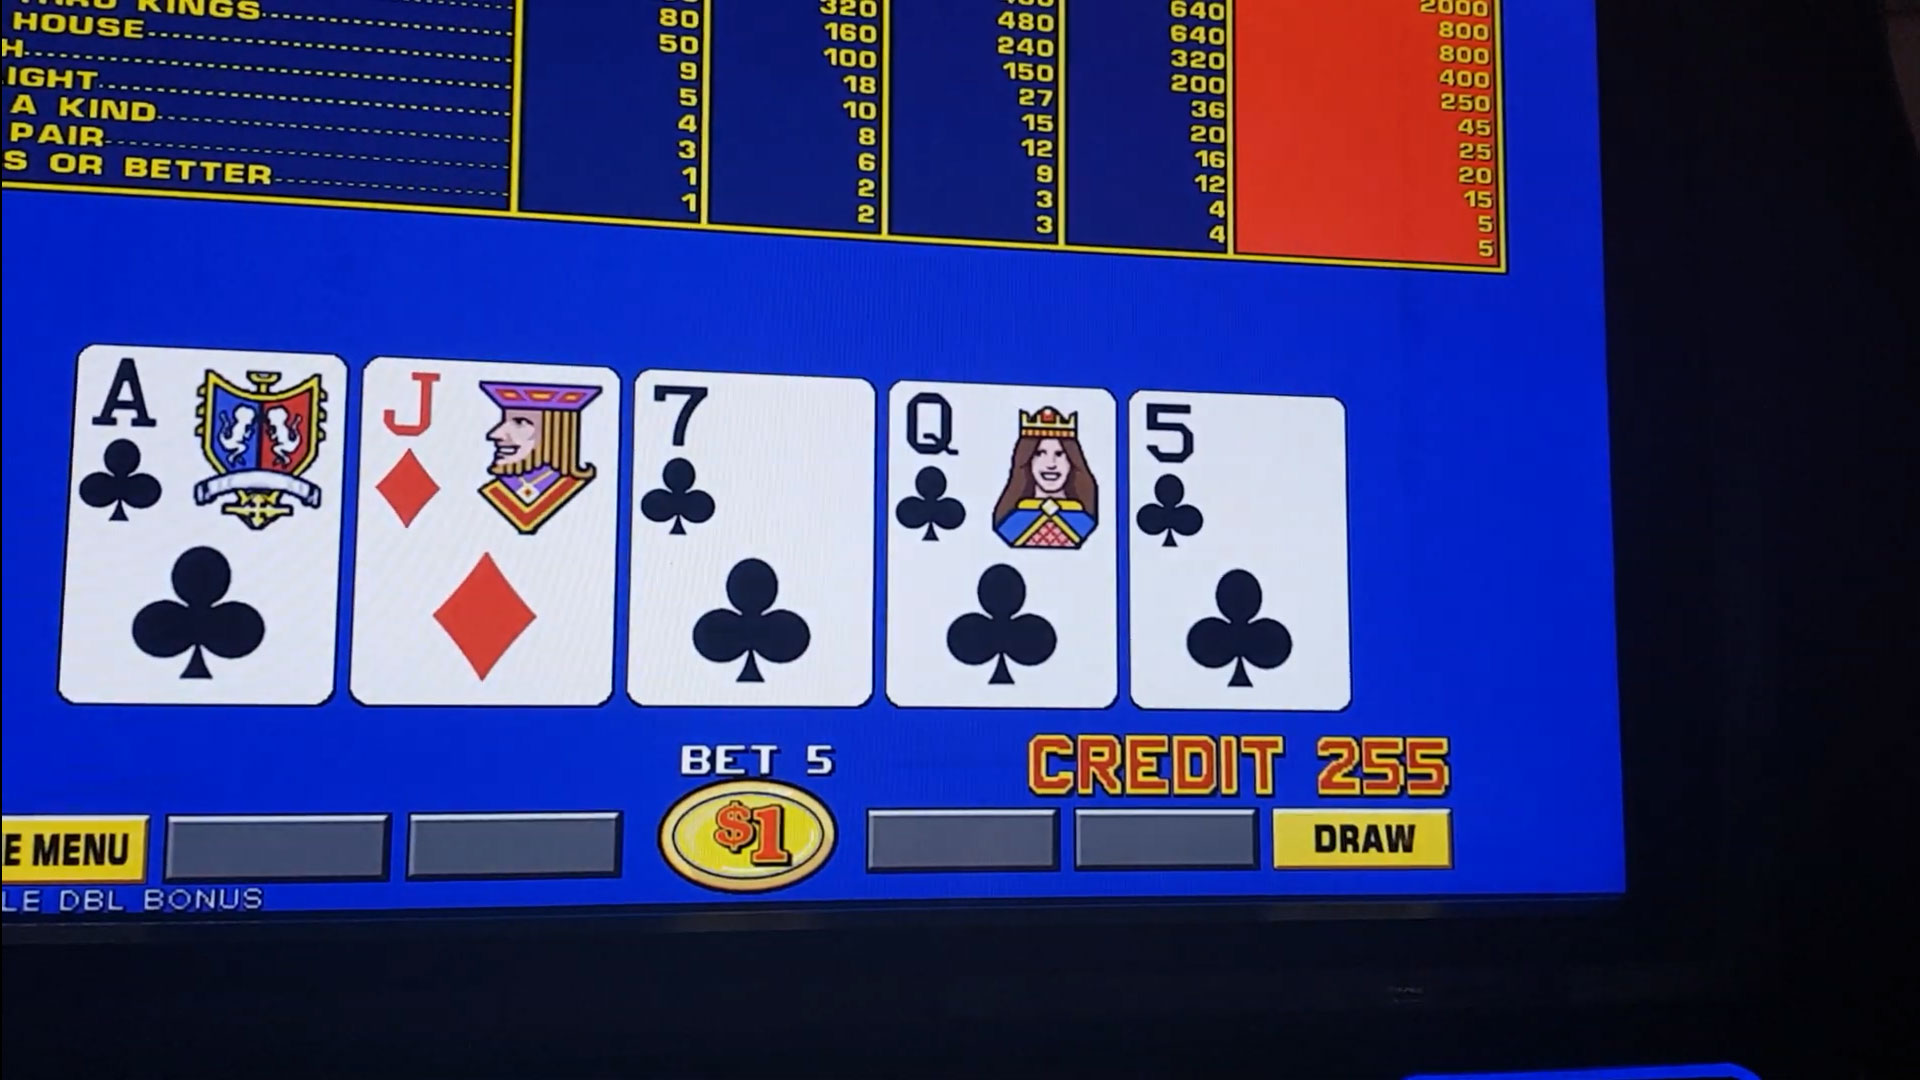C5: (1135, 397, 1349, 560)
C7: (637, 380, 868, 560)
CA: (75, 351, 338, 535)
CQ: (891, 390, 1110, 566)
DJ: (360, 371, 615, 554)
